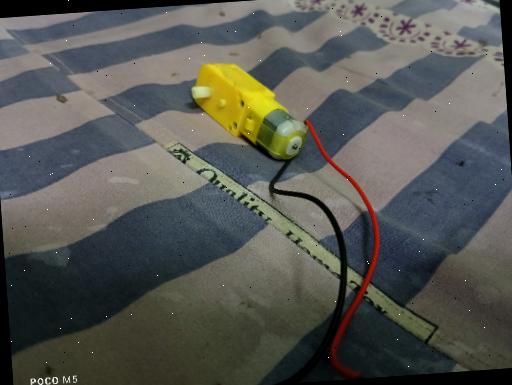Motor: (188, 56, 310, 166)
